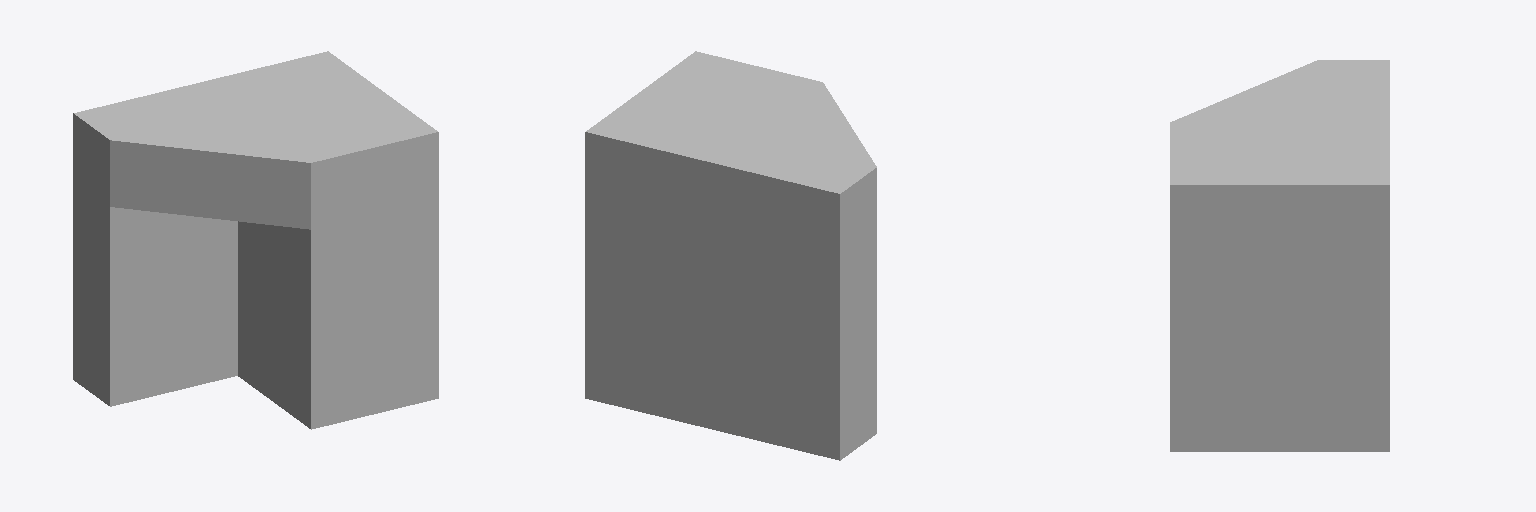
The model's file is E3-Rep03-p02.obj.
3 renders of one model, left to right at view 1: azimuth 30°, elevation 25°; view 2: azimuth 150°, elevation 25°; view 3: azimuth 270°, elevation 25°, orthographic.
Visible parts, largest first — view 1: mesh6, mesh7, mesh2, mesh3, mesh1, mesh4; view 2: mesh8, mesh7, mesh4; view 3: mesh9, mesh7.
Part boxes in pixels (x1,y1,x2,y2): mesh6: (311,132,438,429); mesh7: (74,51,437,162); mesh2: (110,207,237,406); mesh3: (110,140,310,229); mesh1: (238,221,310,428); mesh4: (73,113,109,405); mesh8: (585,132,839,460); mesh7: (586,51,876,193); mesh4: (840,168,876,460); mesh9: (1170,185,1389,451); mesh7: (1170,60,1389,184).
Bounding box in the file's own units: 0.04 × 0.04 × 0.03.